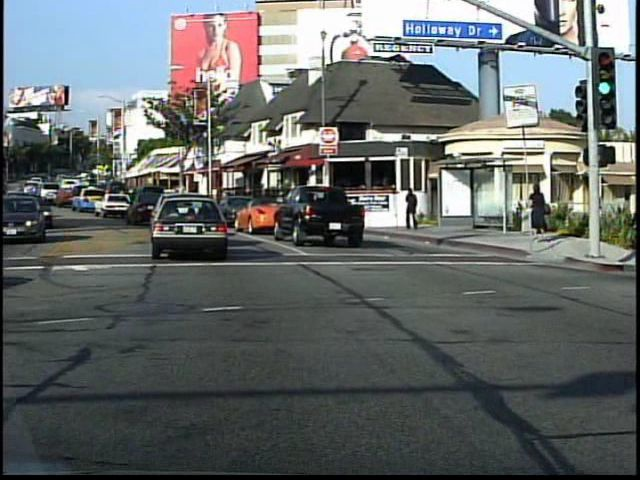person: (531, 182, 556, 248), (404, 186, 423, 235)
